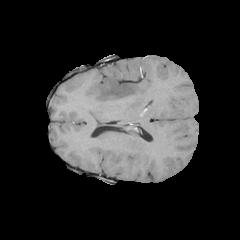glioma: (89, 73, 141, 128)
